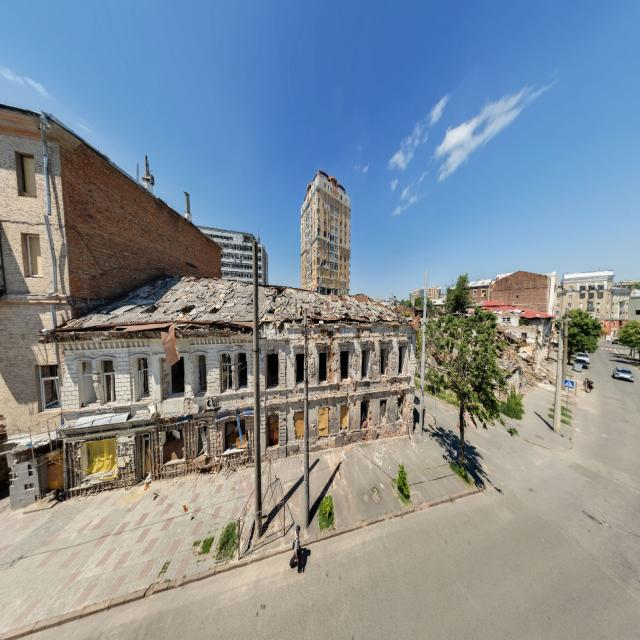broken_window: (38, 363, 61, 411), (15, 150, 37, 198), (100, 358, 116, 404), (136, 356, 149, 399), (266, 410, 279, 448), (194, 354, 206, 395), (220, 351, 232, 392), (266, 351, 278, 389), (236, 352, 247, 389), (318, 349, 328, 384), (293, 410, 304, 441), (339, 348, 349, 382), (295, 352, 304, 385)
building: (300, 169, 351, 295)
roof: (39, 272, 416, 340)
